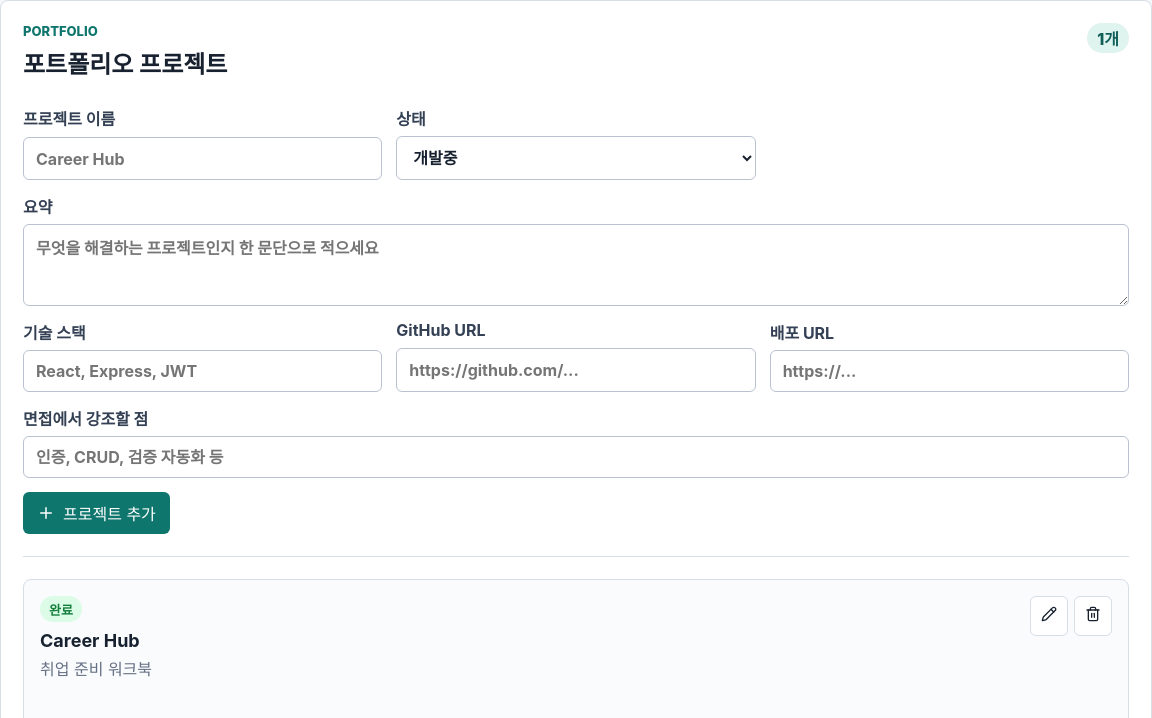
기록 삭제 보호 › 프로젝트 삭제 실패를 사용자에게 표시한다
The image size is (1152, 718).
Click the button named "Career Hub 프로젝트 삭제" at (1093, 616), box [1074,596,1112,636]
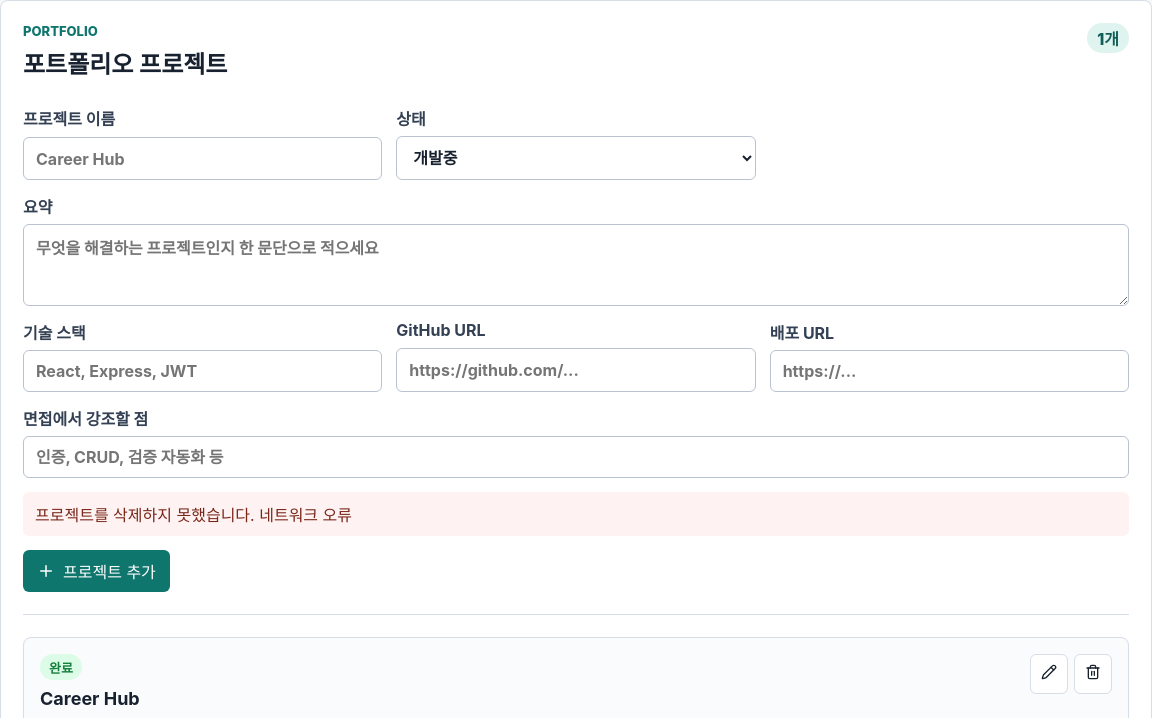
expect the text "프로젝트를 삭제하지 못했습니다. 네트워크 오류" is shown: met, box [23,492,1129,536]
